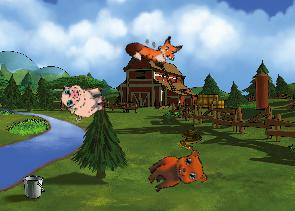bear: (142, 142, 212, 205)
fox: (123, 22, 184, 74)
pig: (59, 76, 108, 123)
